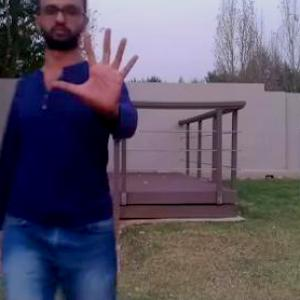follow_hand: (48, 21, 142, 118)
